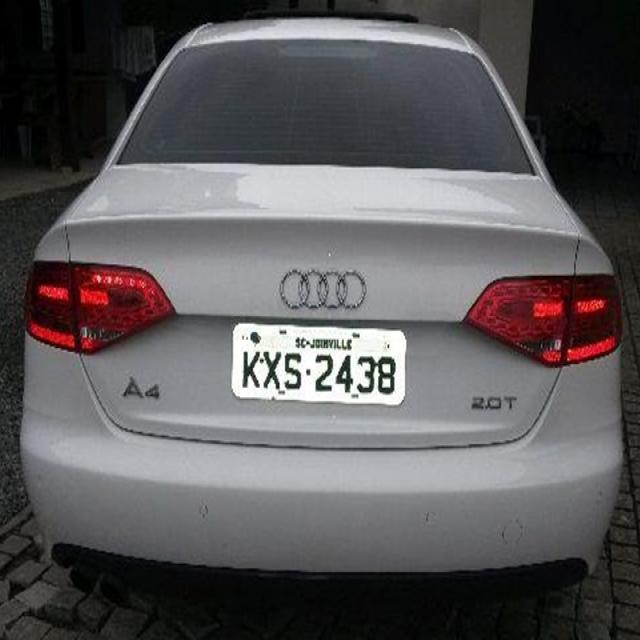Placa: (229, 317, 408, 408)
